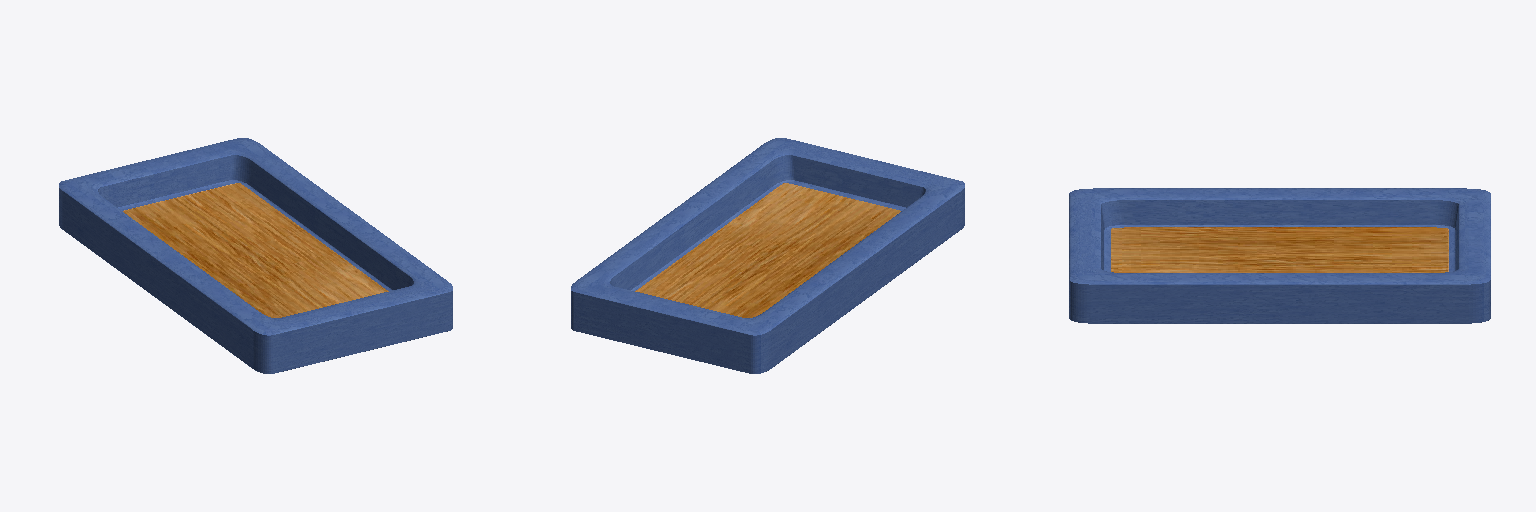
3 renders of one model, left to right at view 1: azimuth 30°, elevation 25°; view 2: azimuth 150°, elevation 25°; view 3: azimuth 270°, elevation 25°, orthographic.
Visible parts, largest first — view 1: Cube_Cube.001; view 2: Cube_Cube.001; view 3: Cube_Cube.001.
Part boxes in pixels (x1,y1,x2,y2): Cube_Cube.001: (59, 138, 452, 373); Cube_Cube.001: (571, 138, 964, 373); Cube_Cube.001: (1069, 188, 1490, 323).
Size of the model in its own units: 2 by 0.411 by 3.72.
2 materials, 2 textured.